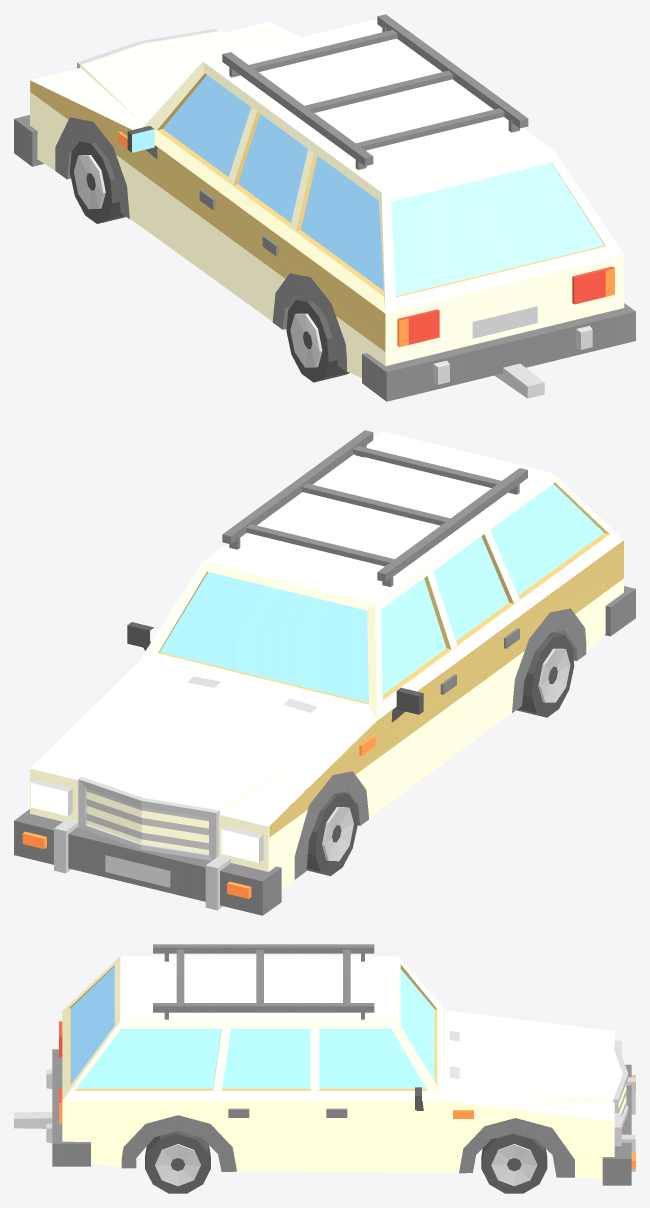
File: transport_old.001.glb
3 views of the same model, one above another, from view 1: azimuth 30°, elevation 25°; view 2: azimuth 150°, elevation 25°; view 3: azimuth 270°, elevation 25° (orthographic). The views are drawn at different scales.
Visible parts, largest first — view 1: transport_old.001(Clone); view 2: transport_old.001(Clone); view 3: transport_old.001(Clone).
Boxes of the visible parts, x1,y1,x2,y2 form: transport_old.001(Clone): (14, 14, 635, 401); transport_old.001(Clone): (14, 430, 635, 915); transport_old.001(Clone): (14, 944, 635, 1193).
Bounding box in the file's own units: 1.48 × 1.07 × 3.51.
Materials: 1 (1 with a texture image).
